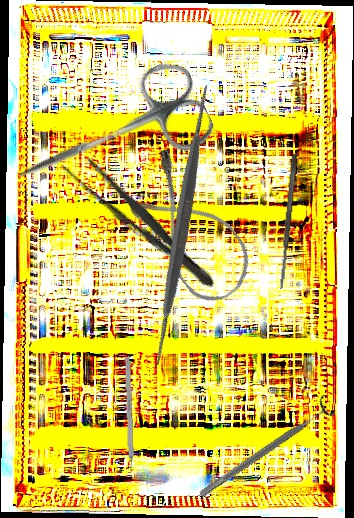Cannula: (112, 145, 264, 313)
Dressing Forceps: (56, 144, 225, 298)
Fixation Ring: (193, 393, 338, 506)
Hook Surgical: (124, 356, 135, 480)
Iris Scissors: (1, 54, 219, 220)
Spatula Surgical: (31, 76, 331, 376), (277, 153, 299, 290)
